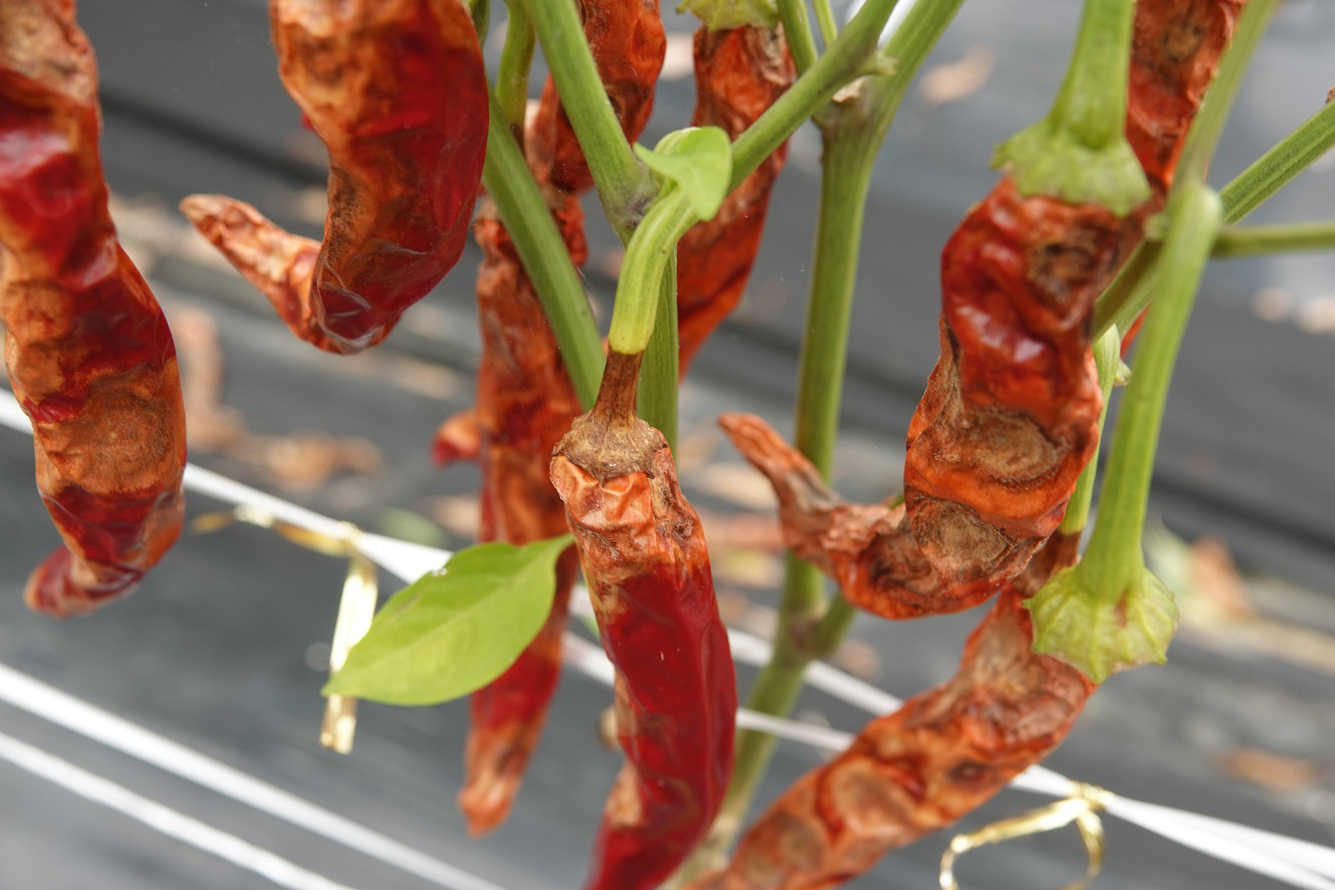Busuk Buah Antraknosa: (722, 147, 1150, 628), (686, 581, 1143, 890), (0, 0, 200, 625), (185, 0, 501, 363), (551, 374, 743, 890)
